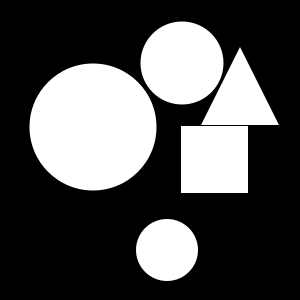circle: (181, 126, 248, 193)
rectangle: (30, 64, 157, 190), (140, 21, 224, 104), (136, 219, 198, 281)
triangle: (201, 47, 279, 125)
